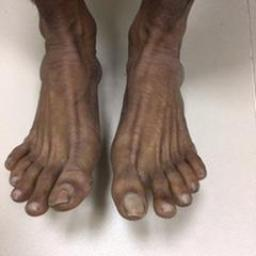Front View -Both Feet-: (3, 2, 217, 226)
